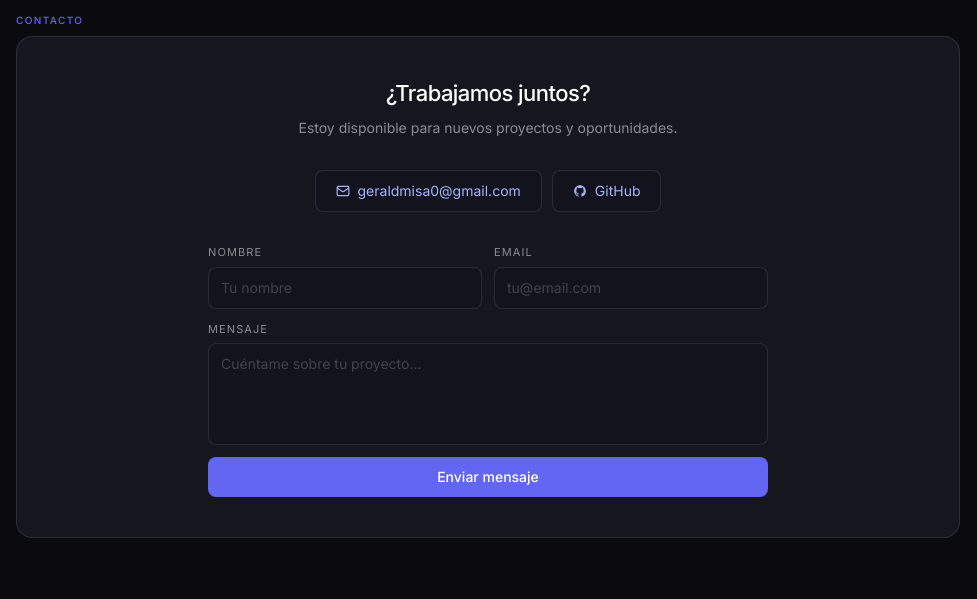
Scenario: Contact › muestra error si el email no tiene formato válido
Note: Escribe un email inválido
In the field with placeholder "tu@email.com": coordinates (631, 288) [494,266,768,308], type "no-es-un-email"
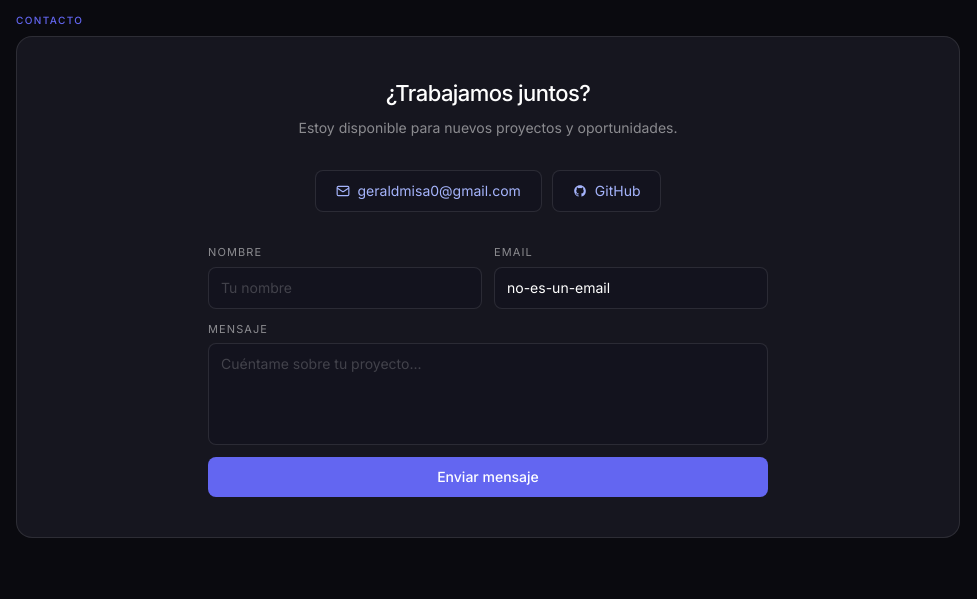
Click the button "Enviar mensaje": coordinates (488, 477) [208,457,768,497]
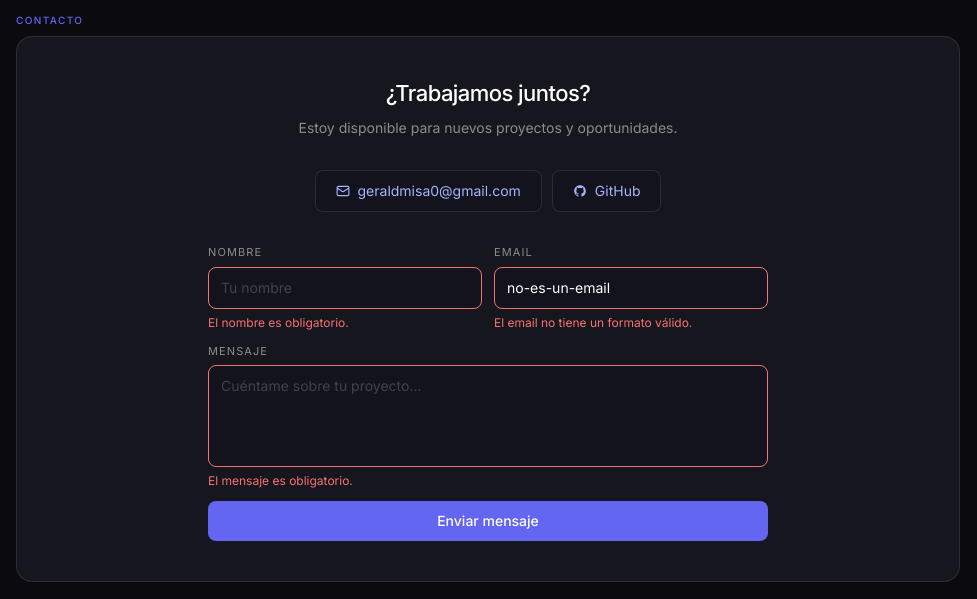
Now the text "El email no tiene un formato válido." is shown, box [494,314,692,330]
